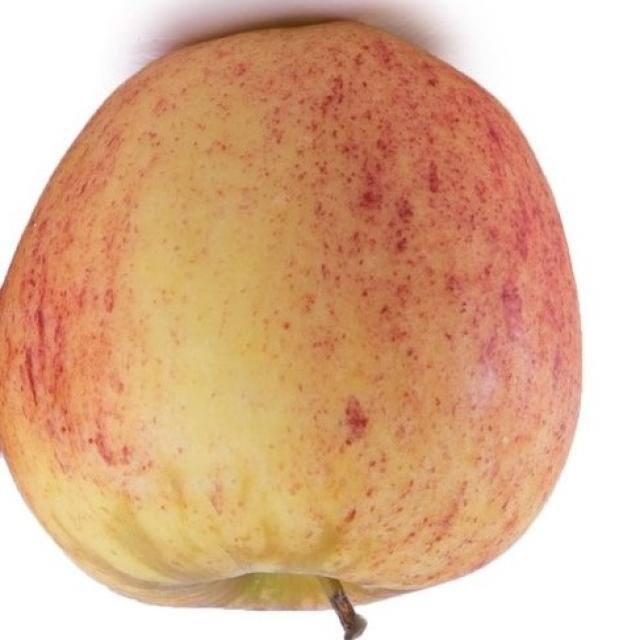75-_ripeness: (0, 22, 579, 607)
